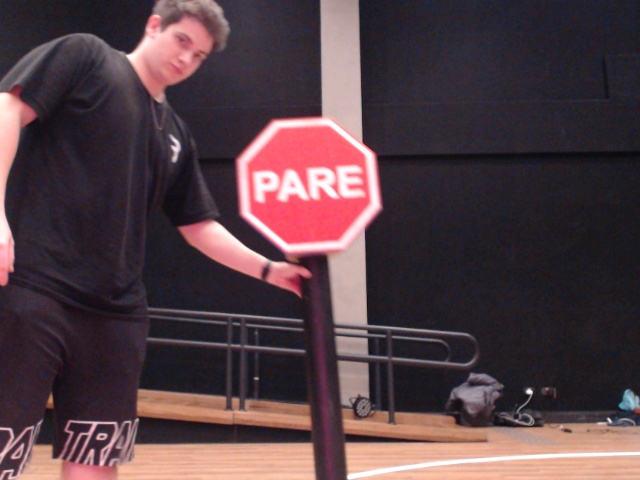SEMAFORO: (182, 82, 447, 326)
